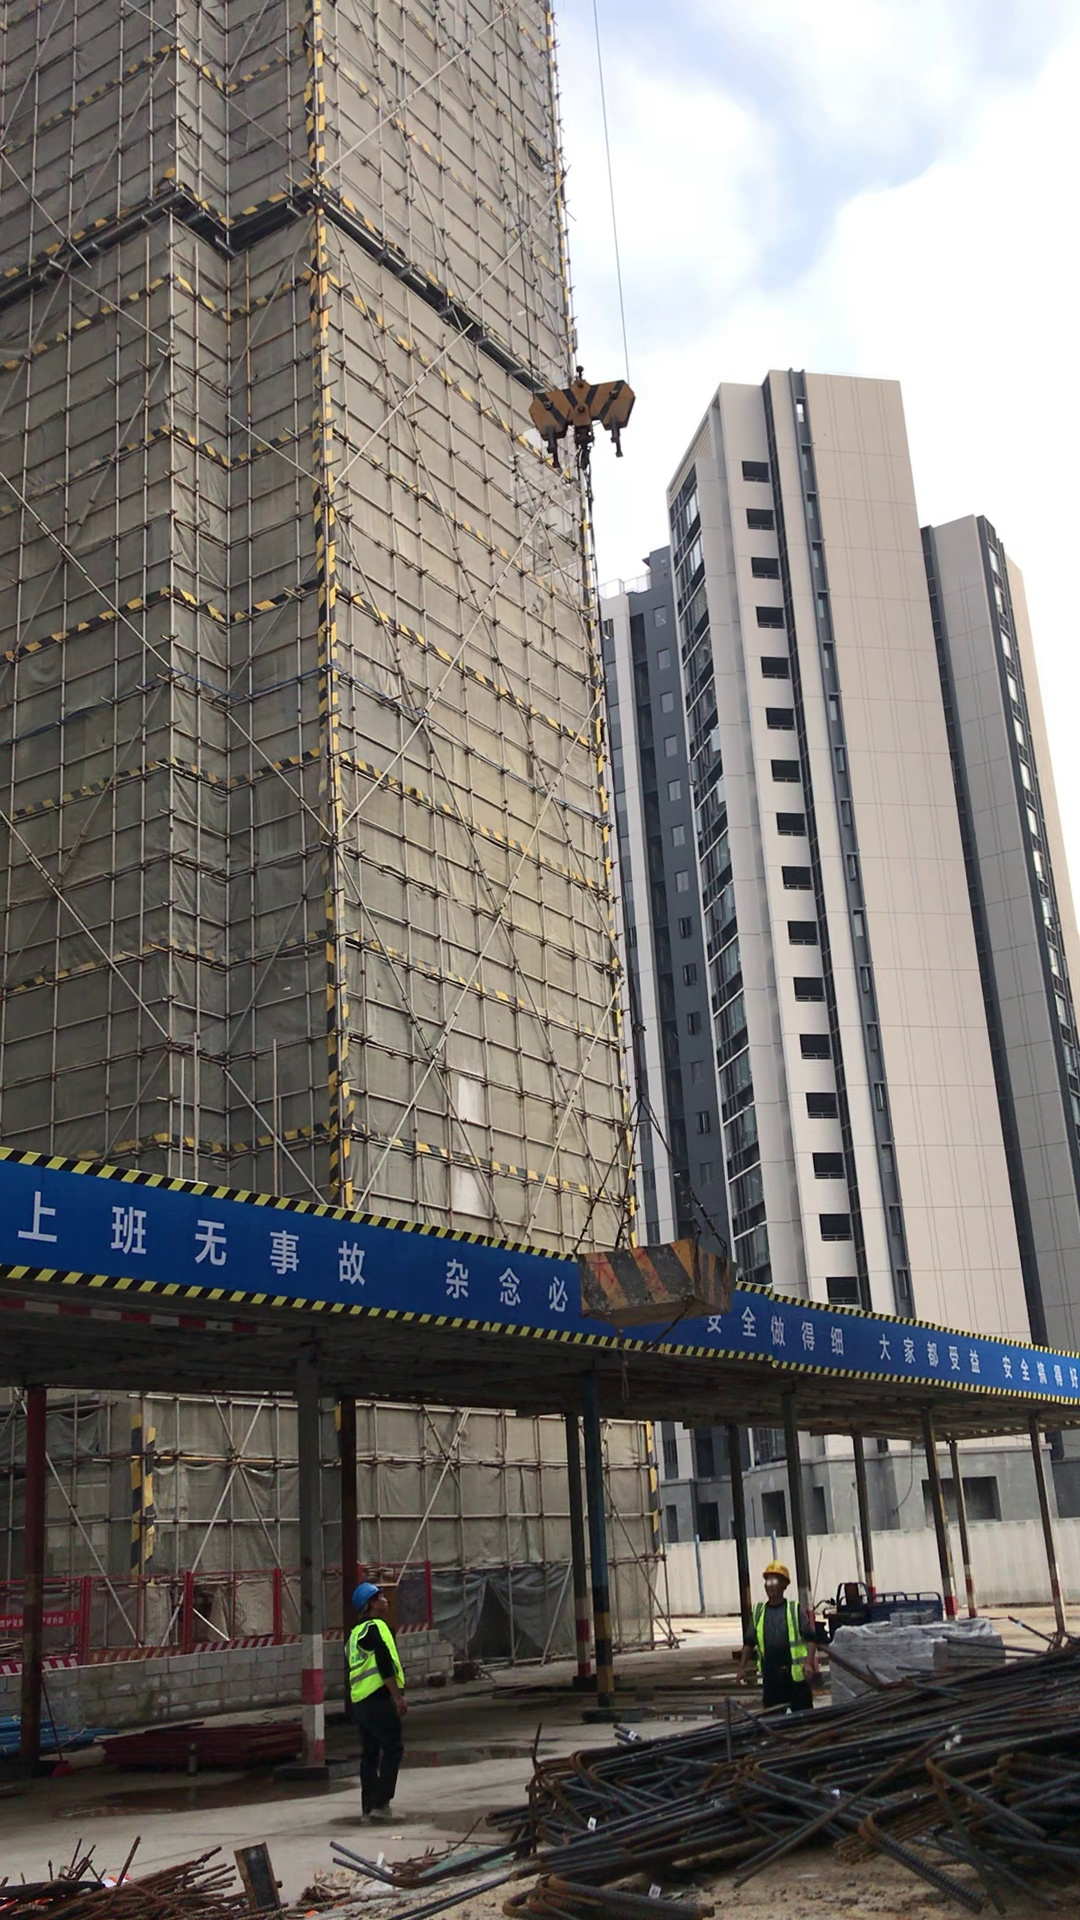fence: (1, 1562, 428, 1679)
helmet: (352, 1578, 384, 1612), (761, 1560, 795, 1582)
hook: (526, 361, 649, 474)
hopper: (568, 1239, 743, 1318)
person: (316, 1572, 428, 1829), (733, 1561, 823, 1716)
slogan: (9, 1149, 1080, 1405)
vest: (753, 1599, 812, 1686), (347, 1623, 405, 1701)
